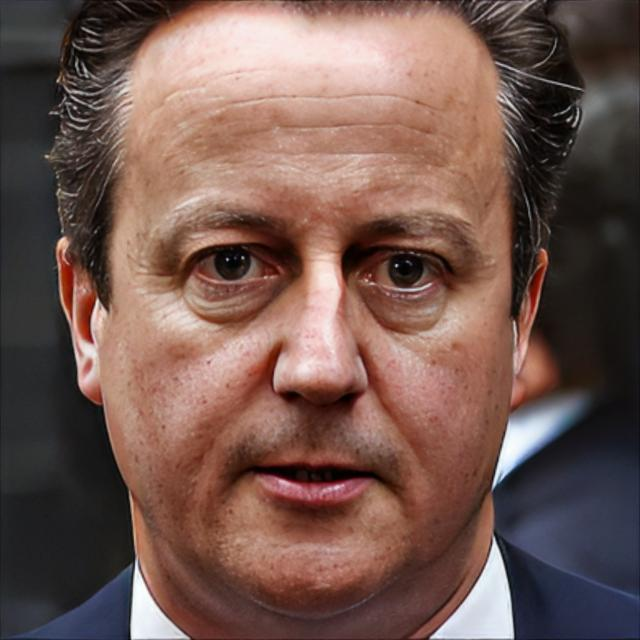anger: (104, 61, 516, 604)
